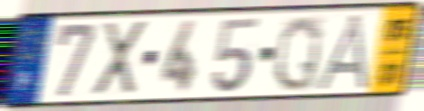4: (158, 17, 198, 96)
5: (210, 15, 262, 95)
7: (54, 21, 99, 100)
A: (312, 12, 374, 93)
Q: (271, 13, 325, 94)
X: (91, 19, 149, 99)
